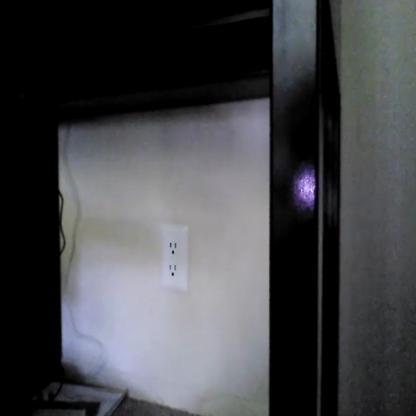OUTLET: (160, 222, 187, 290)
